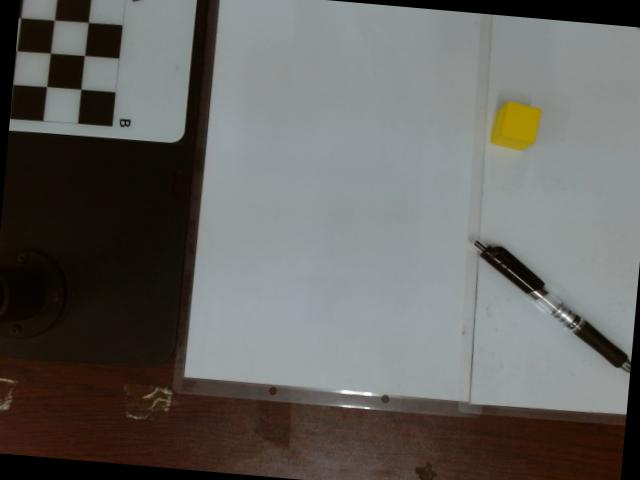PEN: (469, 229, 636, 381)
